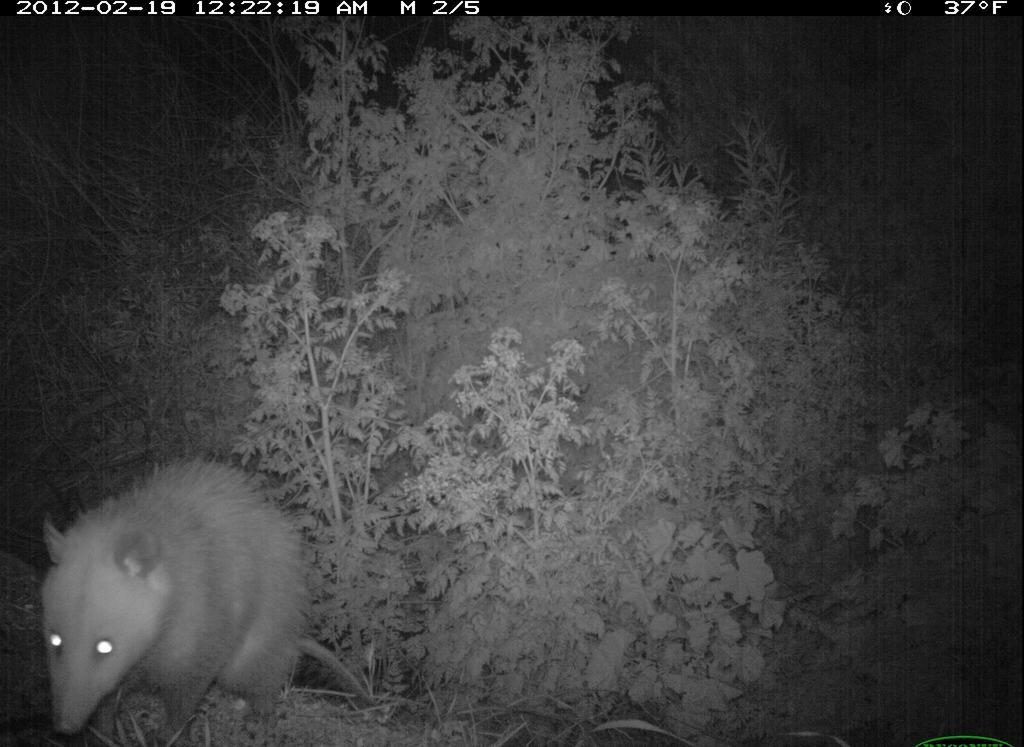opossum: (27, 446, 381, 740)
